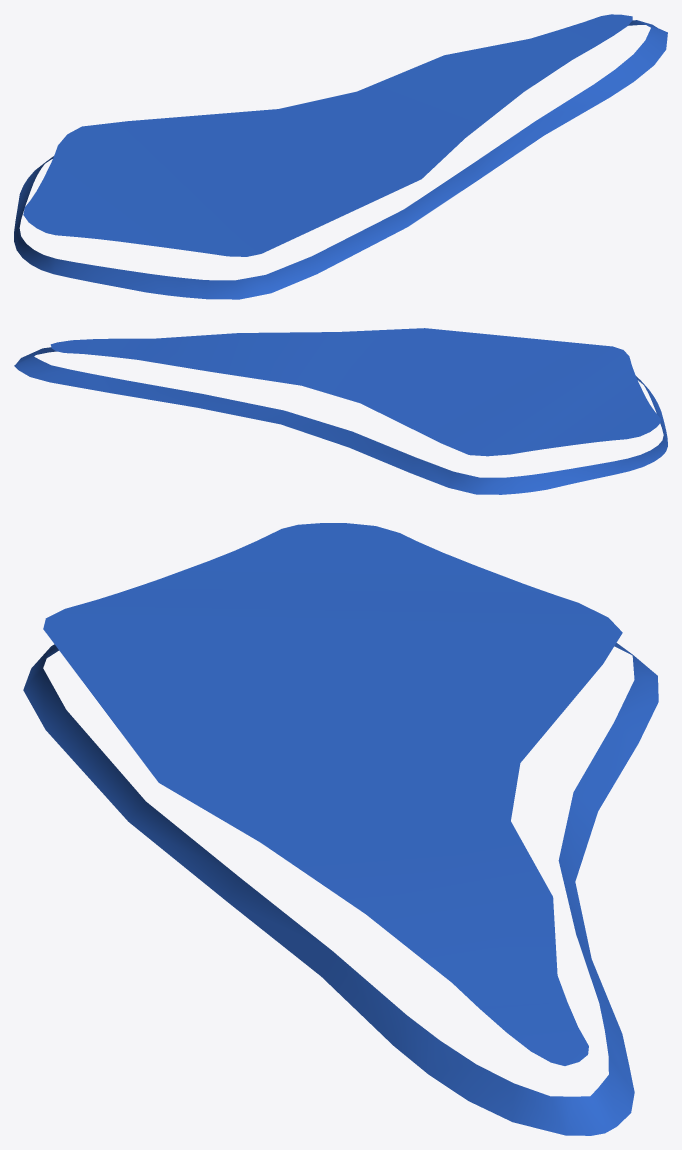
File: SM_Lobby_Roof.fbx
3 renders of one model, top to bottom at view 1: azimuth 30°, elevation 25°; view 2: azimuth 150°, elevation 25°; view 3: azimuth 270°, elevation 25°, orthographic. The views are drawn at different scales.
Parts seen in each view (by area): view 1: BLD_Lobby_Test_Roof; view 2: BLD_Lobby_Test_Roof; view 3: BLD_Lobby_Test_Roof.
Part boxes in pixels (bbox=[...]): BLD_Lobby_Test_Roof: bbox=[14, 14, 667, 299]; BLD_Lobby_Test_Roof: bbox=[14, 328, 667, 494]; BLD_Lobby_Test_Roof: bbox=[23, 523, 658, 1135].
Size of the model in its own units: 3935 by 209 by 1870.
